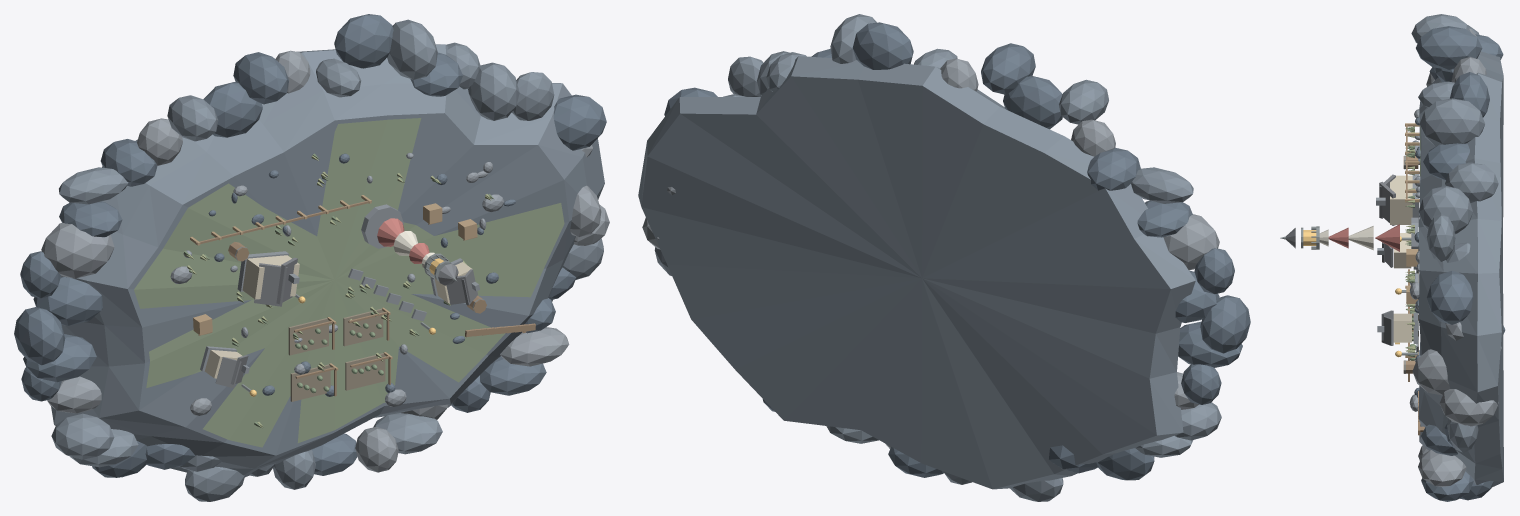
The model's file is island_environment.glb.
3 views of the same model, side by side, from view 1: azimuth 30°, elevation 25°; view 2: azimuth 150°, elevation 25°; view 3: azimuth 270°, elevation 25° (orthographic). The views are drawn at different scales.
Visible parts, largest first — view 1: Main jagged island rock, Wind flattened grass plateau, Cliff boulder 20, Cliff boulder 10, Cliff boulder 9, Cliff boulder 3, Cliff boulder 23, Cliff boulder 6, Cliff boulder 27, Cliff boulder 14, Cliff boulder 13, Cliff boulder 22 (+34 smaller); view 2: Main jagged island rock, Cliff boulder 10, Cliff boulder 23, Cliff boulder 14, Cliff boulder 13, Cliff boulder 20, Cliff boulder 17, Cliff boulder 18, Cliff boulder 15, Cliff boulder 19, Cliff boulder 24, Cliff boulder 21 (+13 smaller); view 3: Main jagged island rock, Cliff boulder 9, Cliff boulder 13, Cliff boulder 3, Cliff boulder 6, Cliff boulder 7, Cliff boulder 45, Cliff boulder 41, Cliff boulder 0, Cliff boulder 8, Cliff boulder 10, Cliff boulder 5 (+16 smaller).
Part boxes in pixels (left/top/right/bottom): Main jagged island rock: left=51, top=44, right=604, bottom=477; Wind flattened grass plateau: left=134, top=118, right=564, bottom=447; Cliff boulder 20: left=41, top=222, right=114, bottom=278; Cliff boulder 10: left=334, top=14, right=393, bottom=68; Cliff boulder 9: left=387, top=19, right=437, bottom=79; Cliff boulder 3: left=553, top=94, right=606, bottom=150; Cliff boulder 23: left=14, top=307, right=65, bottom=365; Cliff boulder 6: left=468, top=62, right=519, bottom=120; Cliff boulder 27: left=51, top=413, right=114, bottom=459; Cliff boulder 14: left=203, top=82, right=262, bottom=137; Cliff boulder 13: left=233, top=52, right=288, bottom=104; Cliff boulder 22: left=33, top=277, right=102, bottom=325; Main jagged island rock: left=638, top=56, right=1195, bottom=489; Cliff boulder 10: left=852, top=22, right=913, bottom=69; Cliff boulder 23: left=1200, top=295, right=1250, bottom=353; Cliff boulder 14: left=1003, top=75, right=1062, bottom=129; Cliff boulder 13: left=981, top=43, right=1035, bottom=94; Cliff boulder 20: left=1163, top=214, right=1219, bottom=270; Cliff boulder 17: left=1087, top=147, right=1140, bottom=190; Cliff boulder 18: left=1131, top=167, right=1193, bottom=203; Cliff boulder 15: left=1059, top=79, right=1108, bottom=124; Cliff boulder 19: left=1137, top=200, right=1192, bottom=237; Cliff boulder 24: left=1178, top=321, right=1242, bottom=367; Cliff boulder 21: left=1194, top=248, right=1234, bottom=294; Main jagged island rock: left=1418, top=51, right=1503, bottom=487; Cliff boulder 9: left=1419, top=98, right=1484, bottom=146; Cliff boulder 13: left=1416, top=26, right=1482, bottom=69; Cliff boulder 3: left=1427, top=271, right=1473, bottom=324; Cliff boulder 6: left=1418, top=186, right=1472, bottom=234; Cliff boulder 7: left=1445, top=162, right=1498, bottom=202; Cliff boulder 45: left=1439, top=389, right=1498, bottom=426; Cliff boulder 41: left=1418, top=450, right=1466, bottom=486; Cliff boulder 0: left=1412, top=349, right=1449, bottom=395; Cliff boulder 8: left=1423, top=143, right=1469, bottom=180; Cliff boulder 10: left=1450, top=72, right=1489, bottom=117; Cliff boulder 5: left=1427, top=214, right=1455, bottom=261.
Size of the model in its own units: 30.84 by 22.15 by 11.09.
